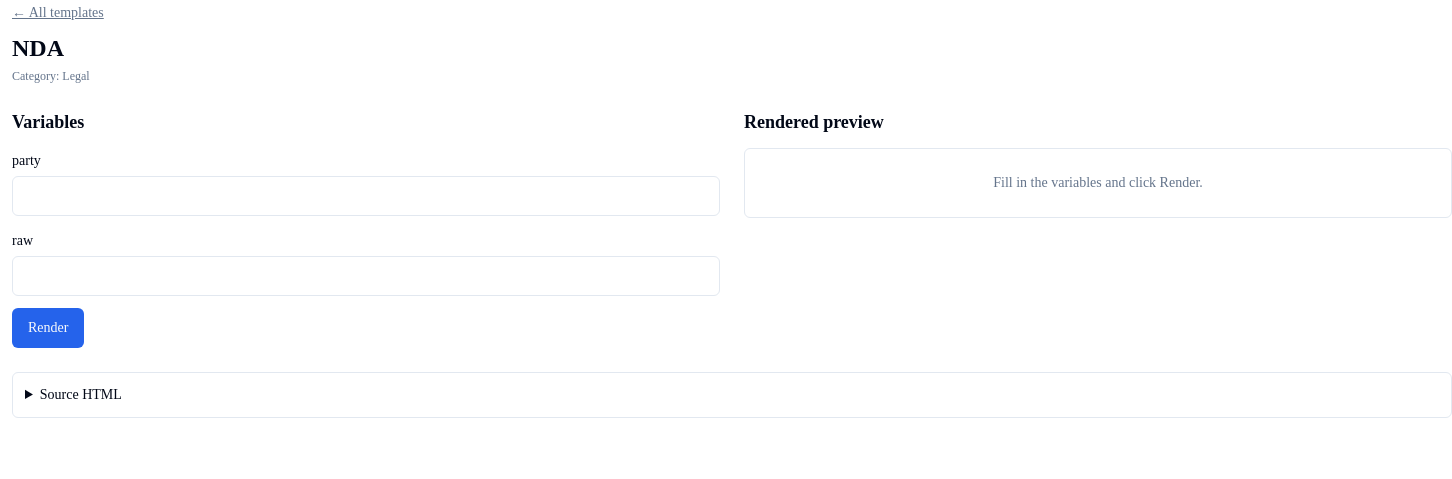
Test: TemplateRenderer › handles render failure with error banner
Click the button with test id "template-render-submit": point(48, 328) [12,308,84,348]
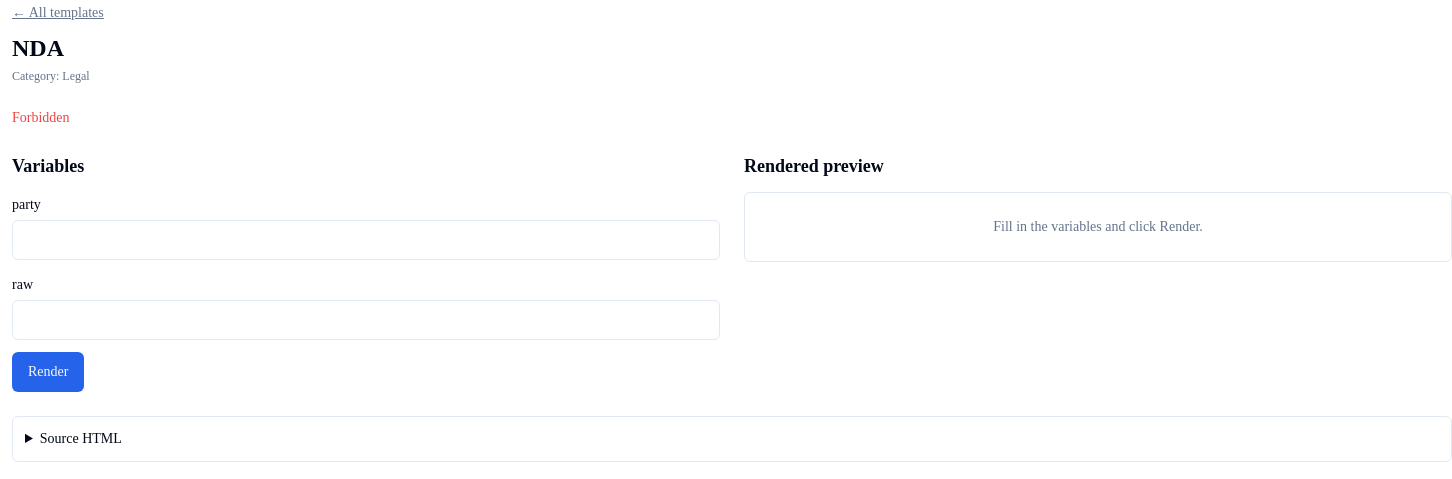
Check: the text with test id "template-error" reads "Forbidden", box [12,110,70,125]
